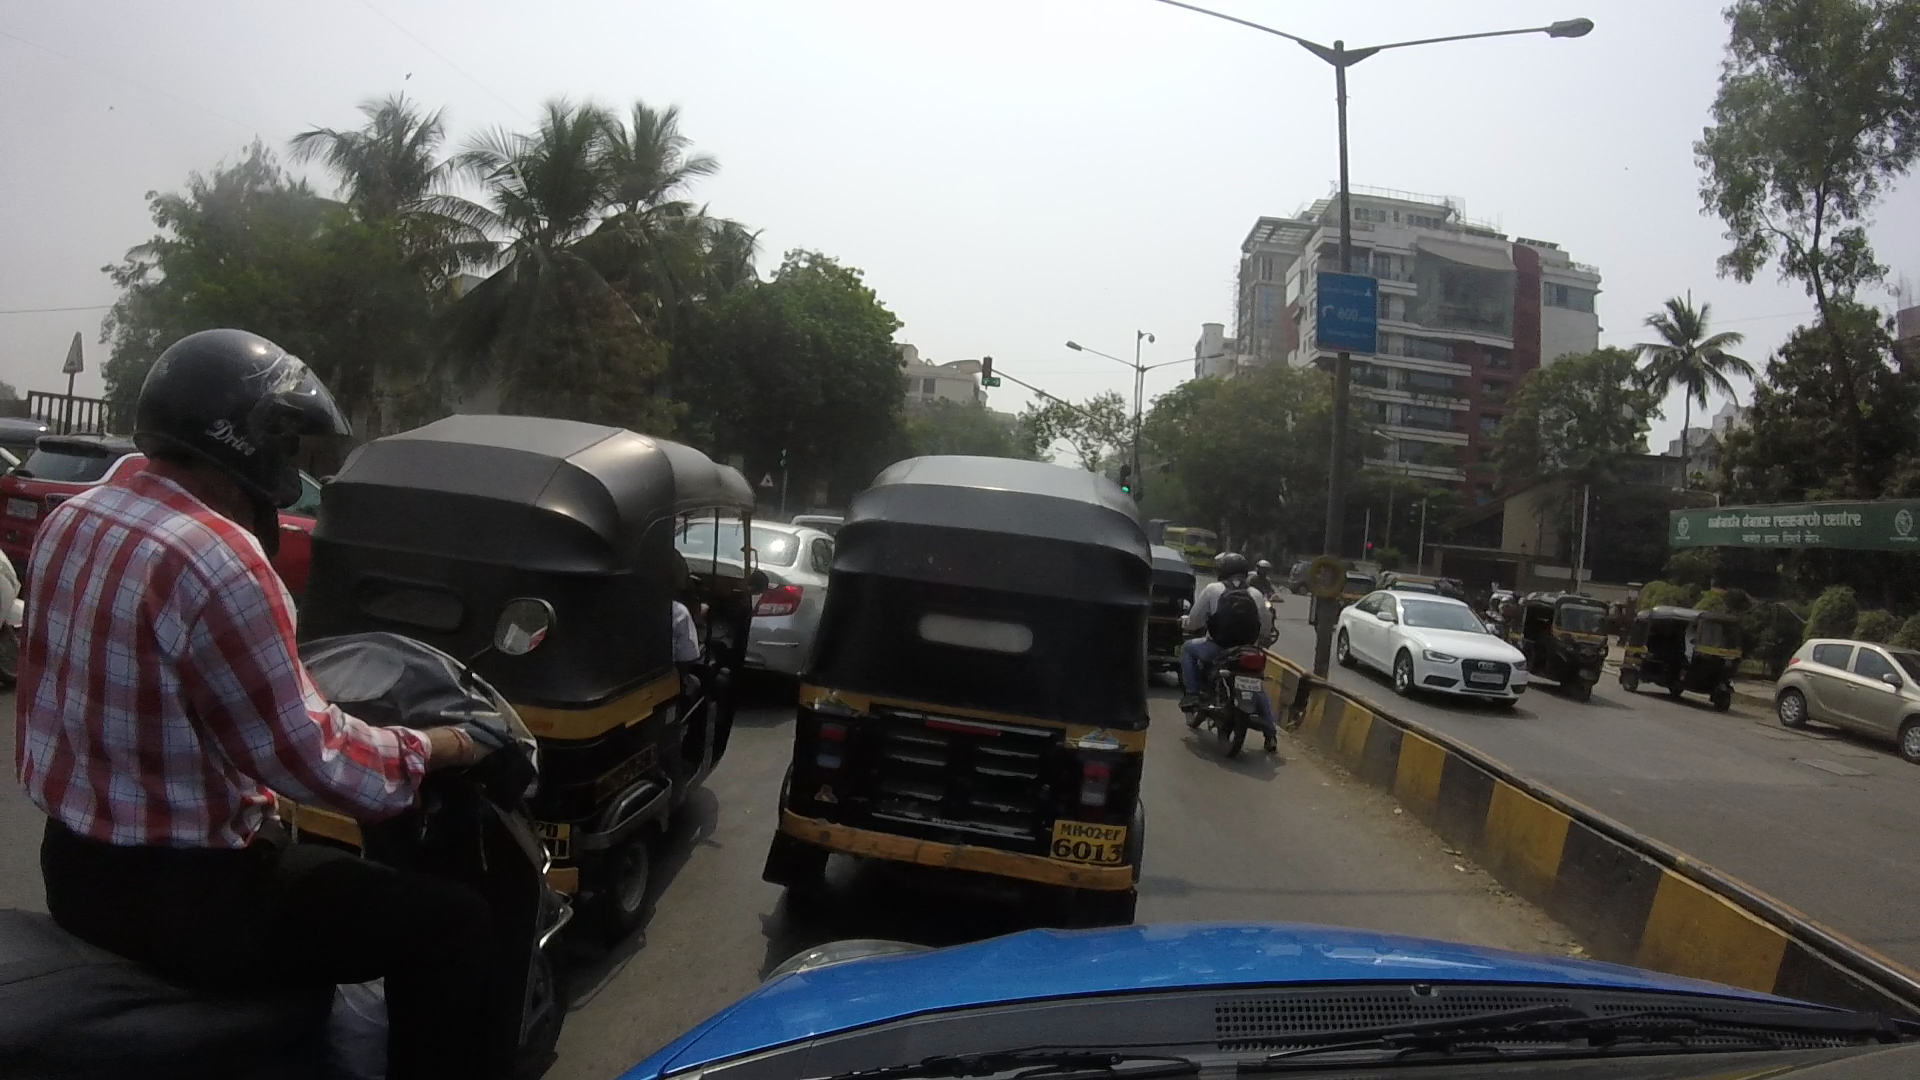bike/scooter: (44, 336, 551, 1080), (1168, 556, 1284, 760)
car: (694, 506, 837, 716), (1335, 589, 1540, 698), (1768, 626, 1920, 749)
rickshaw: (328, 415, 742, 936), (799, 454, 1143, 936), (1619, 611, 1731, 702)
